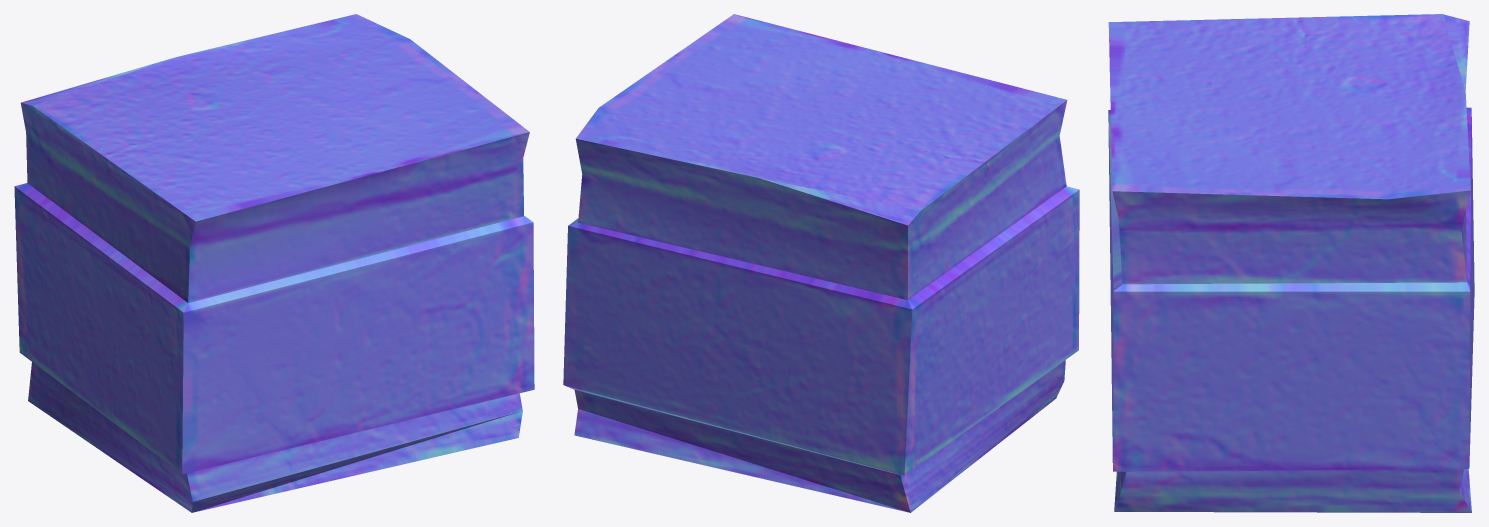
File: pillar_bottom_01a_LOD2.fbx
3 views of the same model, side by side, from view 1: azimuth 30°, elevation 25°; view 2: azimuth 150°, elevation 25°; view 3: azimuth 270°, elevation 25° (orthographic). The views are drawn at different scales.
Parts seen in each view (by area): view 1: pillar_bottom_01a_LOD2; view 2: pillar_bottom_01a_LOD2; view 3: pillar_bottom_01a_LOD2.
Boxes of the visible parts, <box> form: pillar_bottom_01a_LOD2: <box>14,14,534,512</box>; pillar_bottom_01a_LOD2: <box>563,14,1079,512</box>; pillar_bottom_01a_LOD2: <box>1108,14,1474,512</box>.
Bounding box in the file's own units: 34.35 × 28.42 × 28.
Materials: 1 (1 with a texture image).
